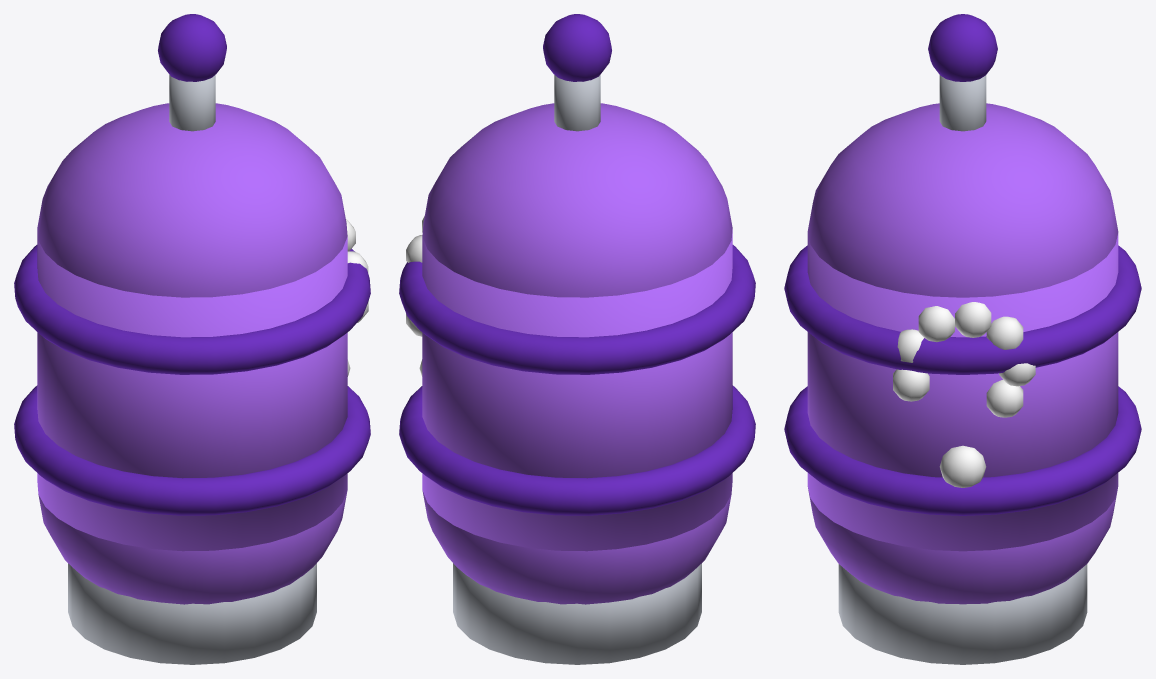
The model's file is SM_Capsule_Epic.fbx.
The picture shows the model from 3 angles, left to right: view 1: azimuth 30°, elevation 25°; view 2: azimuth 150°, elevation 25°; view 3: azimuth 270°, elevation 25°; orthographic projection.
Parts seen in each view (by area): view 1: SM_Capsule_Epic; view 2: SM_Capsule_Epic; view 3: SM_Capsule_Epic.
Part boxes in pixels (left/top/right/bottom): SM_Capsule_Epic: left=14, top=14, right=370, bottom=664; SM_Capsule_Epic: left=399, top=14, right=755, bottom=664; SM_Capsule_Epic: left=784, top=14, right=1141, bottom=664.
Size of what is drawn, in the model's own units: 0.46 by 0.845 by 0.46.
Materials: 1 (1 with a texture image).
